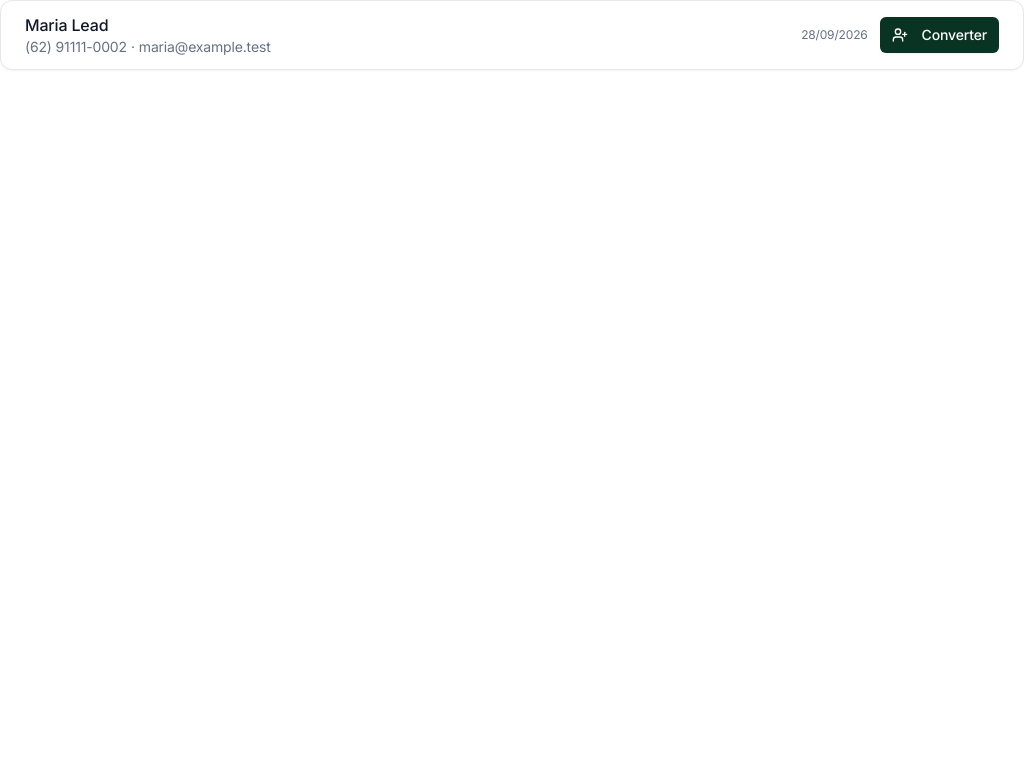
Test: sem cliente parecido converte; se o servidor achar um no meio tempo, mostra para vincular
Click the button "Converter" at (939, 35), box [880,17,999,53]
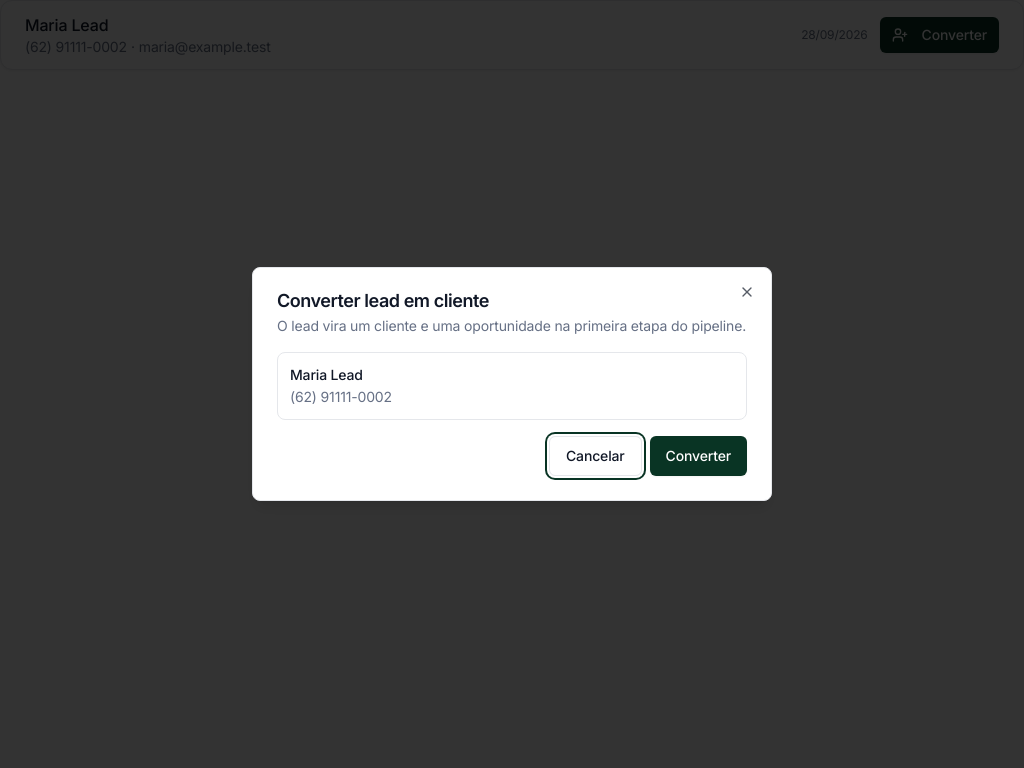
Click the button "Converter" at (698, 456), box [650,436,747,476]
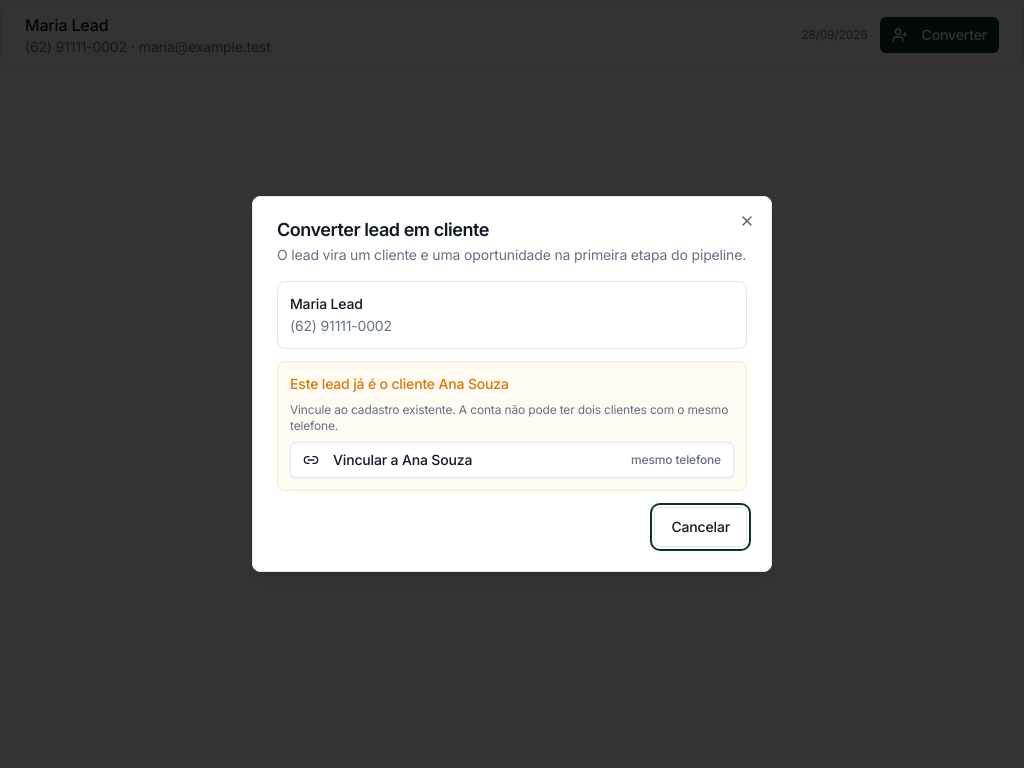
Expected: the button "Vincular a Ana Souza mesmo telefone" is shown, [290,442,734,478]
